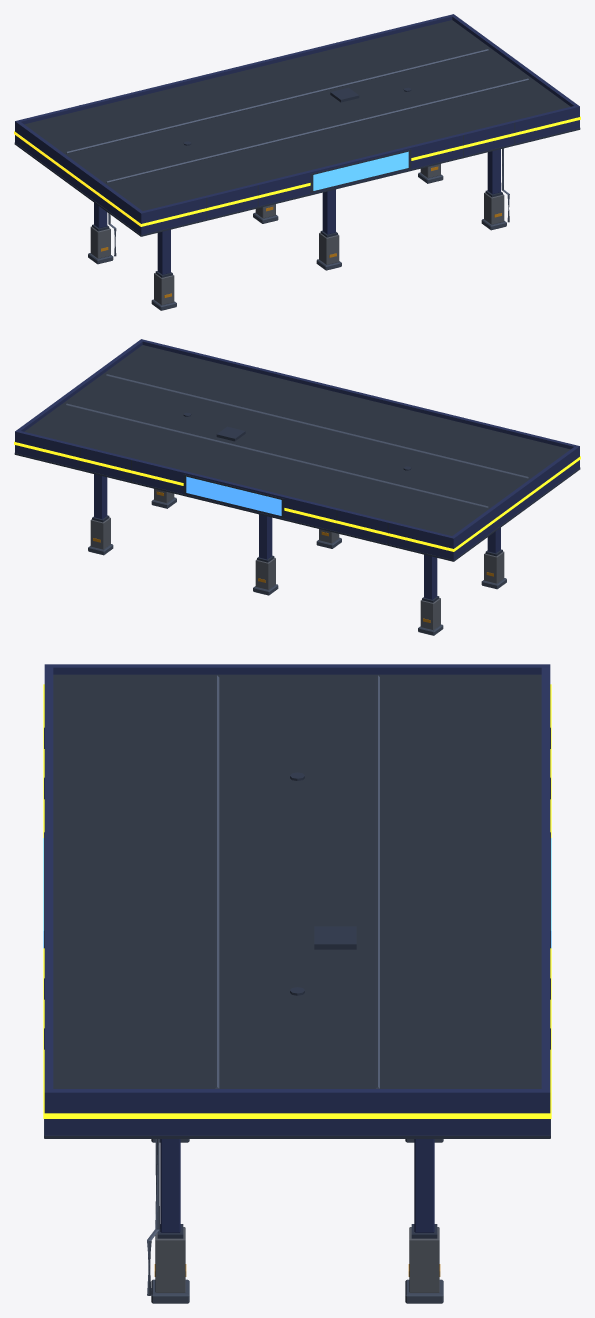
Rendered from hw_gas_canopy.glb.
The picture shows the model from 3 angles, top to bottom: view 1: azimuth 30°, elevation 25°; view 2: azimuth 150°, elevation 25°; view 3: azimuth 270°, elevation 25°; orthographic projection. The views are drawn at different scales.
Parts seen in each view (by area): view 1: roof, fascia, trim, column_tiles, canopy_body, fascia_glow, sign_panel, column_base; view 2: roof, fascia, trim, column_tiles, canopy_body, fascia_glow, sign_panel, column_base; view 3: roof, fascia, canopy_body, trim, fascia_glow, column_tiles, column_base.
Part boxes in pixels (<box>): roof: <box>24,20,570,210</box>; fascia: <box>15,14,579,274</box>; trim: <box>14,87,580,277</box>; column_tiles: <box>90,164,504,305</box>; canopy_body: <box>66,49,528,256</box>; fascia_glow: <box>14,116,580,226</box>; sign_panel: <box>313,151,408,190</box>; column_base: <box>88,172,506,310</box>; roof: <box>24,345,570,535</box>; fascia: <box>15,339,579,599</box>; trim: <box>14,412,580,602</box>; column_tiles: <box>90,489,504,630</box>; canopy_body: <box>66,374,528,507</box>; fascia_glow: <box>14,441,580,551</box>; sign_panel: <box>186,476,281,515</box>; column_base: <box>88,497,506,635</box>; roof: <box>53,674,541,1088</box>; fascia: <box>44,664,550,1232</box>; canopy_body: <box>147,675,379,1295</box>; trim: <box>44,727,550,1238</box>; fascia_glow: <box>43,684,551,1118</box>; column_tiles: <box>155,1227,439,1292</box>; column_base: <box>151,1139,443,1303</box>.
Size of the model in its own units: 24 by 6.7 by 12.
